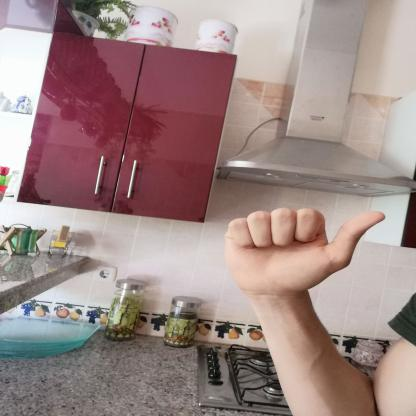DAD: (210, 198, 398, 305)
